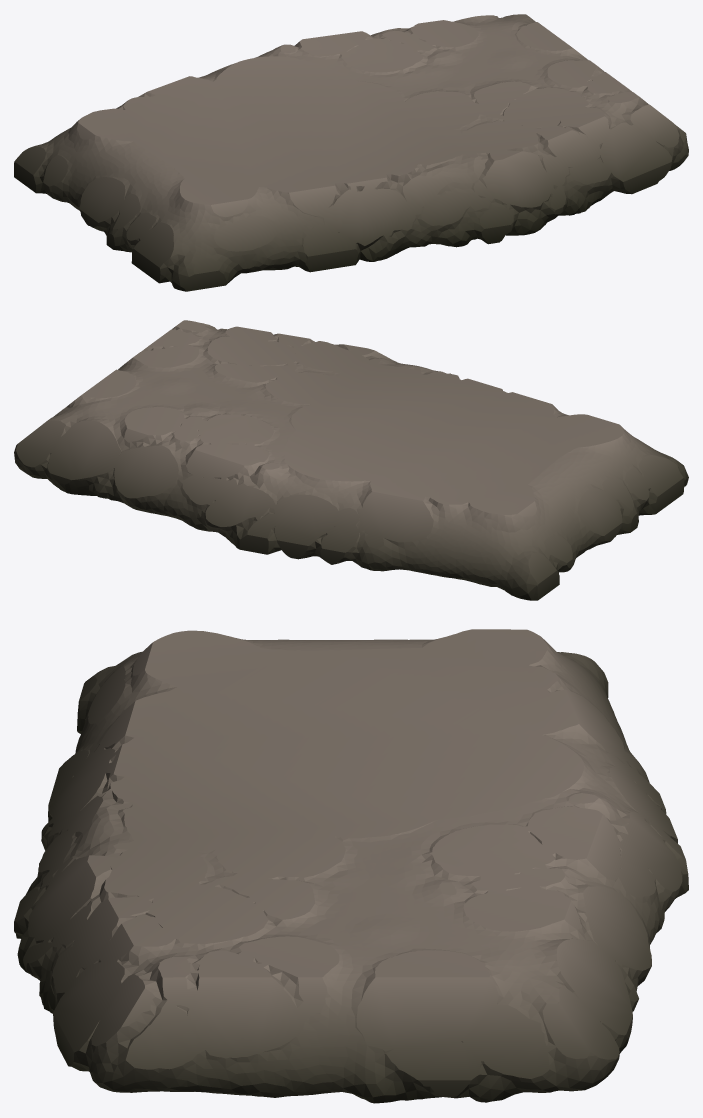
Rendered from Slab_01.fbx.
3 views of the same model, one above another, from view 1: azimuth 30°, elevation 25°; view 2: azimuth 150°, elevation 25°; view 3: azimuth 270°, elevation 25° (orthographic). The views are drawn at different scales.
Visible parts, largest first — view 1: Slab_01; view 2: Slab_01; view 3: Slab_01.
Boxes of the visible parts, left/top/right/bottom form: Slab_01: left=14, top=14, right=688, bottom=291; Slab_01: left=14, top=320, right=688, bottom=600; Slab_01: left=14, top=629, right=688, bottom=1103.
Bounding box in the file's own units: 240 × 31.17 × 166.
